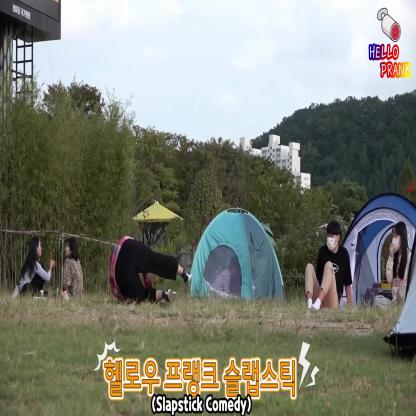Fall_Down: (109, 233, 192, 304)
